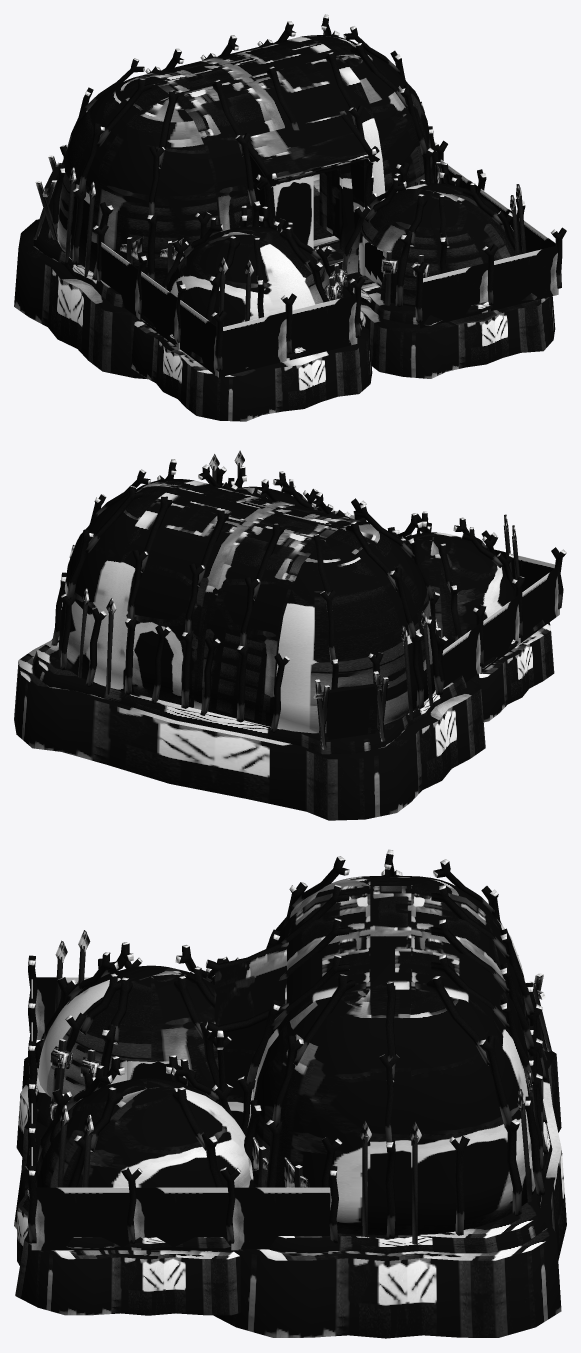
File: barracks.dae
The picture shows the model from 3 angles, top to bottom: view 1: azimuth 30°, elevation 25°; view 2: azimuth 150°, elevation 25°; view 3: azimuth 270°, elevation 25°; orthographic projection. The views are drawn at different scales.
Parts seen in each view (by area): view 1: aden_barracks; view 2: aden_barracks; view 3: aden_barracks.
Boxes of the visible parts, bbox=[...] form: aden_barracks: bbox=[14, 14, 566, 421]; aden_barracks: bbox=[14, 450, 566, 820]; aden_barracks: bbox=[14, 849, 566, 1338].
Size of the model in its own units: 20.54 by 20.16 by 12.2.
